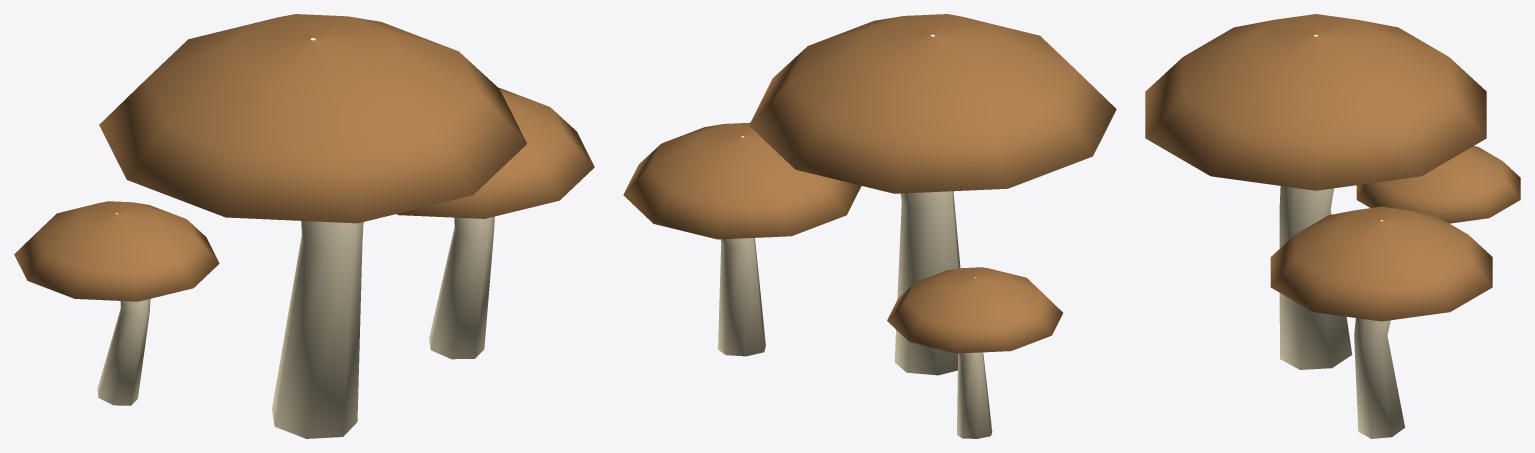
File: fruiting-cluster.glb
3 views of the same model, side by side, from view 1: azimuth 30°, elevation 25°; view 2: azimuth 150°, elevation 25°; view 3: azimuth 270°, elevation 25° (orthographic). The views are drawn at different scales.
Parts seen in each view (by area): view 1: fungus_fruiting-cluster_LOD0; view 2: fungus_fruiting-cluster_LOD0; view 3: fungus_fruiting-cluster_LOD0.
Part boxes in pixels (x1,y1,x2,y2): fungus_fruiting-cluster_LOD0: [14, 14, 594, 438]; fungus_fruiting-cluster_LOD0: [623, 14, 1116, 438]; fungus_fruiting-cluster_LOD0: [1145, 14, 1520, 438].
Bounding box in the file's own units: 1.13 × 0.8074 × 0.8572.
